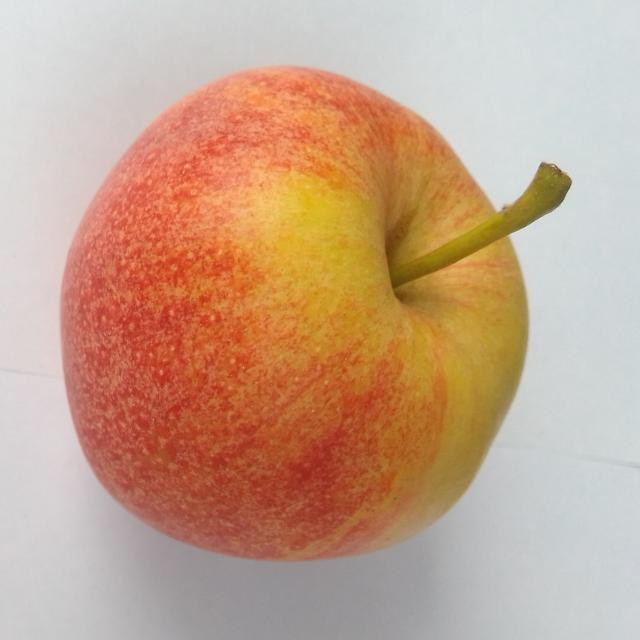Fresh Apple: (70, 79, 525, 564)
